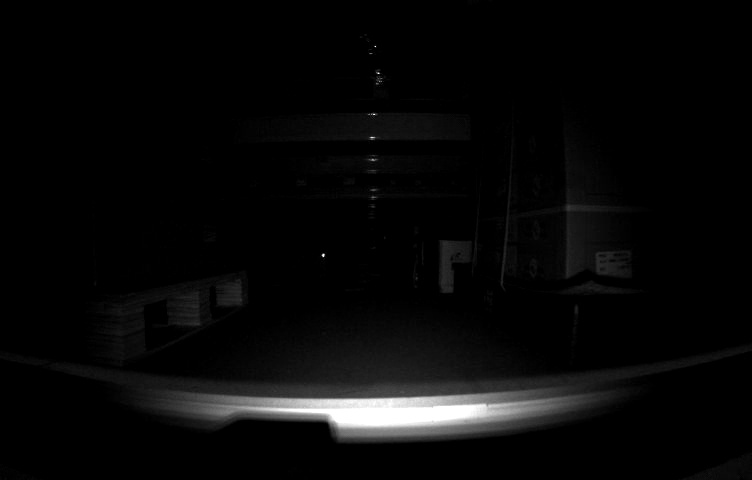True Barcode: (592, 252, 635, 290)
